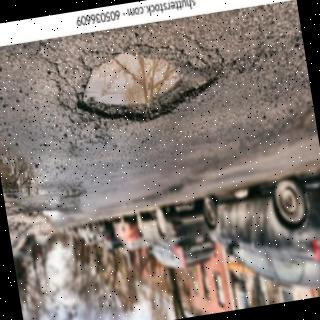pothole: (78, 53, 210, 119)
